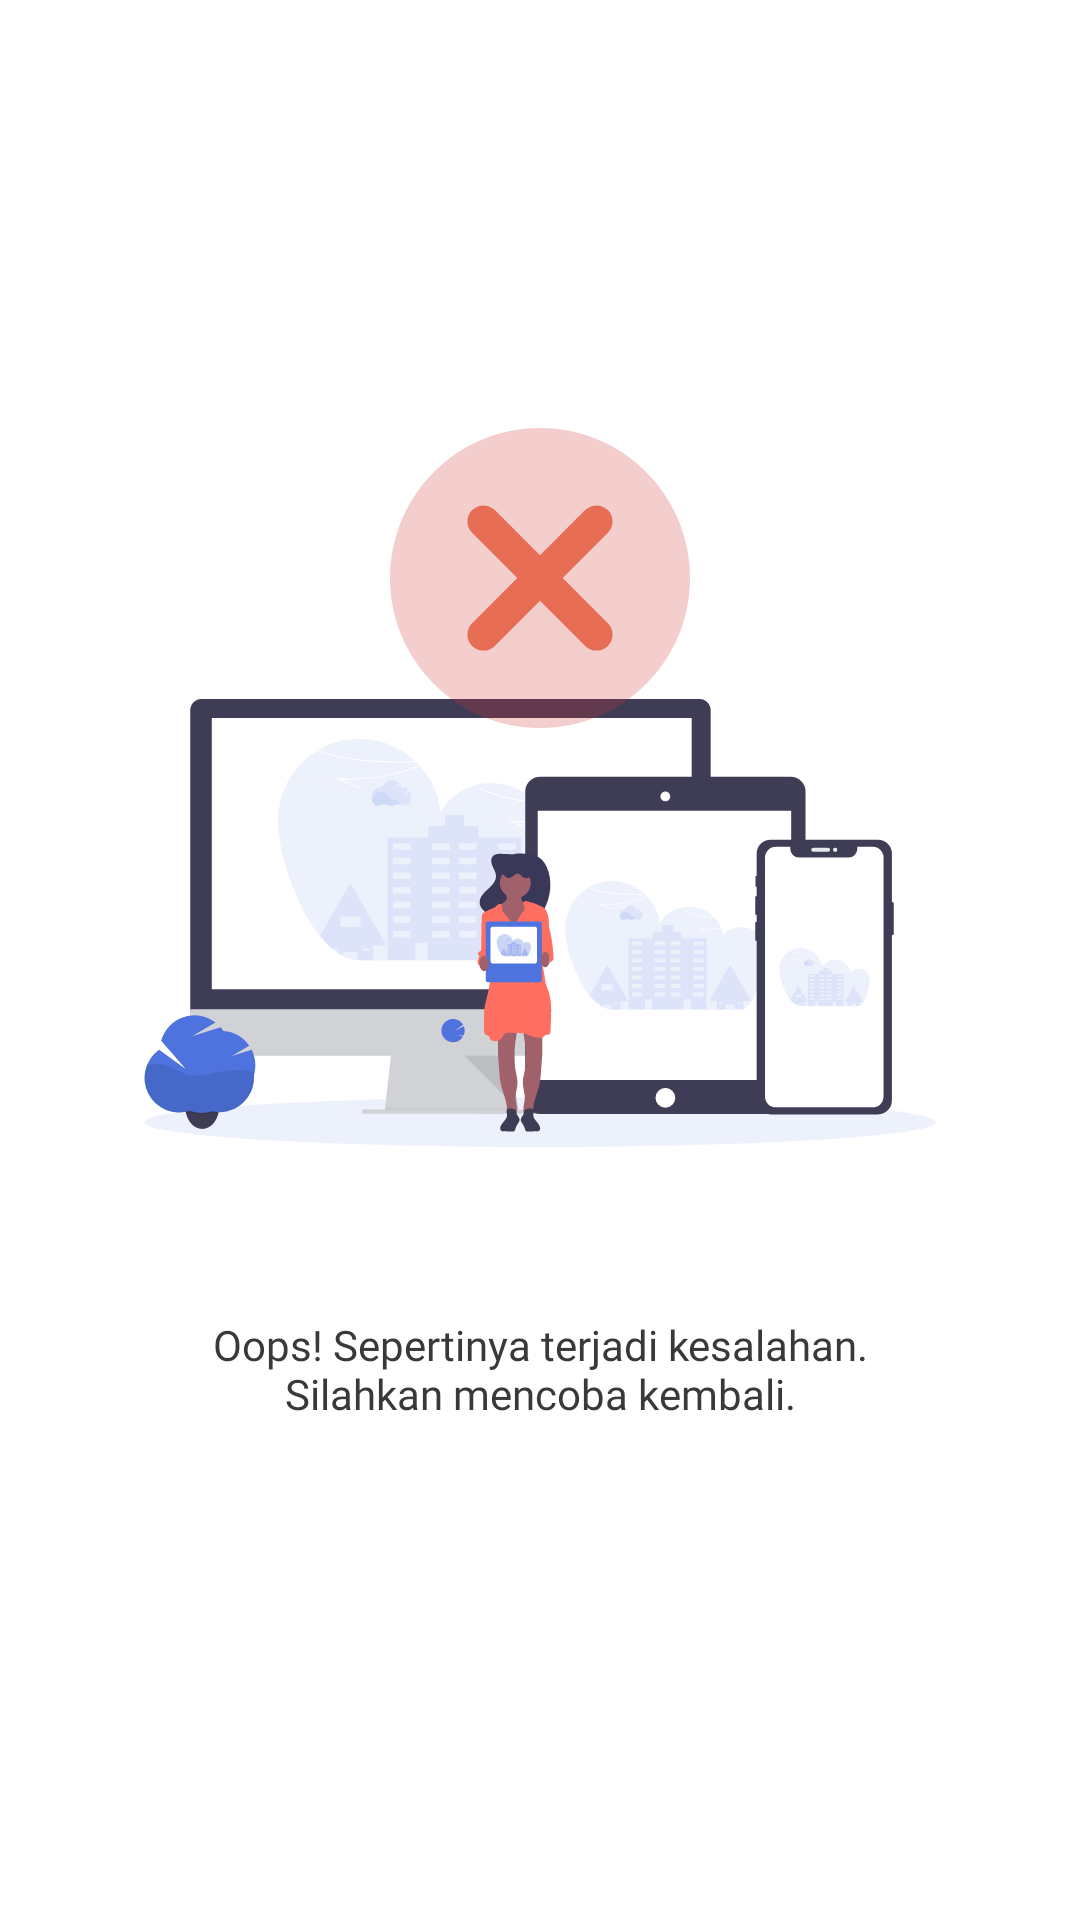

Locate icon controls on the screen. Image size 1080*1920, boxes as (x1, y1, x2, y2).
cross: (390, 428, 690, 728)
